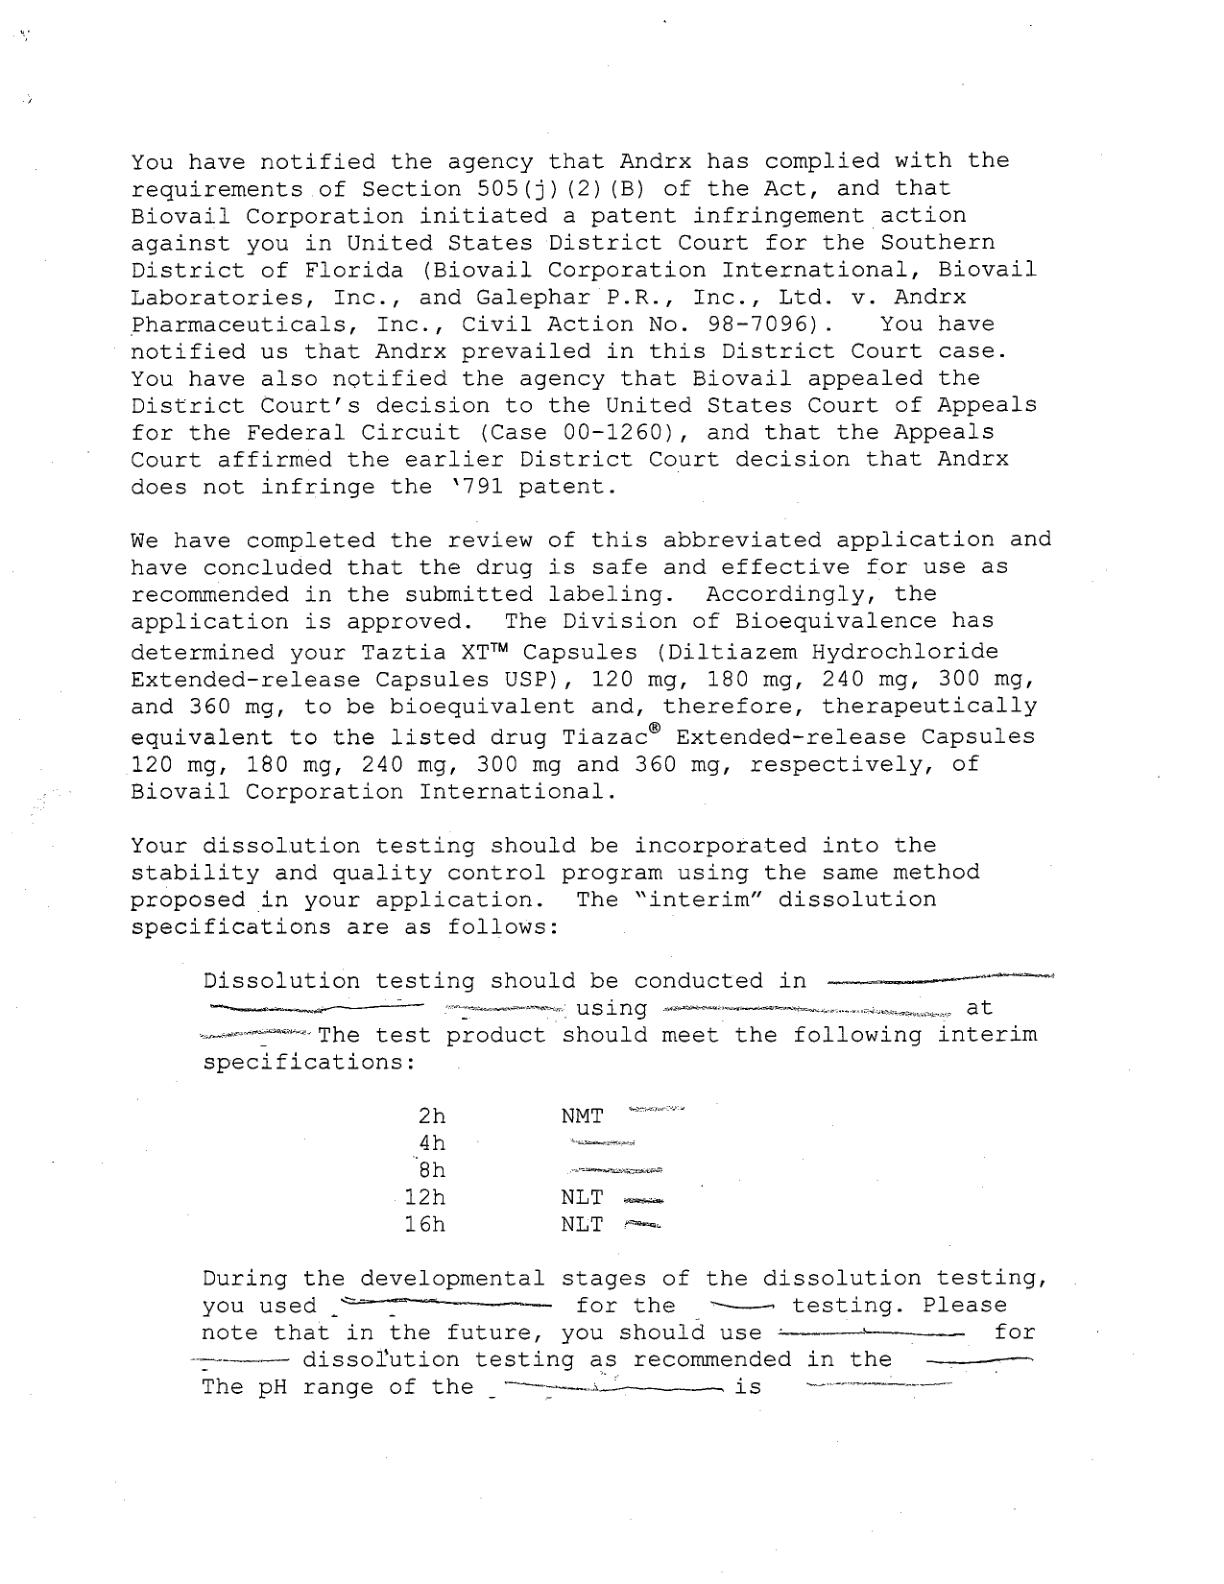nolines: (399, 1101, 690, 1236)
